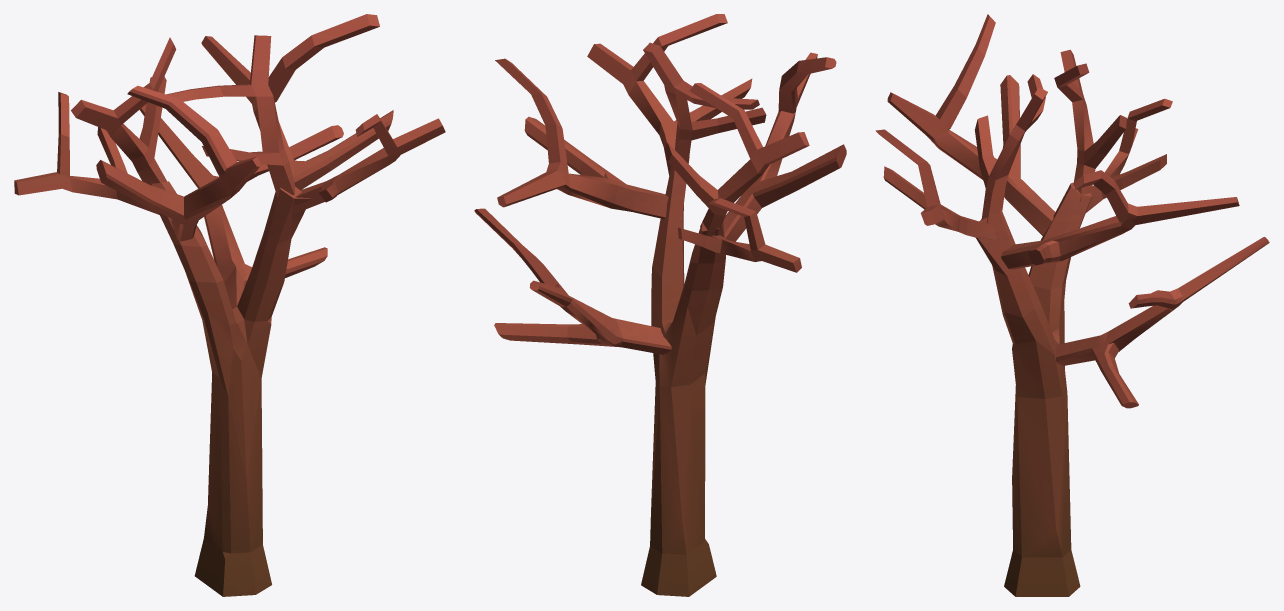
3 renders of one model, left to right at view 1: azimuth 30°, elevation 25°; view 2: azimuth 150°, elevation 25°; view 3: azimuth 270°, elevation 25°, orthographic. The views are drawn at different scales.
Visible parts, largest first — view 1: TreeDead1; view 2: TreeDead1; view 3: TreeDead1.
Boxes of the visible parts, bbox=[...] form: TreeDead1: bbox=[14, 14, 445, 596]; TreeDead1: bbox=[474, 14, 846, 596]; TreeDead1: bbox=[875, 14, 1269, 596].
Size of the model in its own units: 3.63 by 5.63 by 3.92.
1 material, 1 textured.
